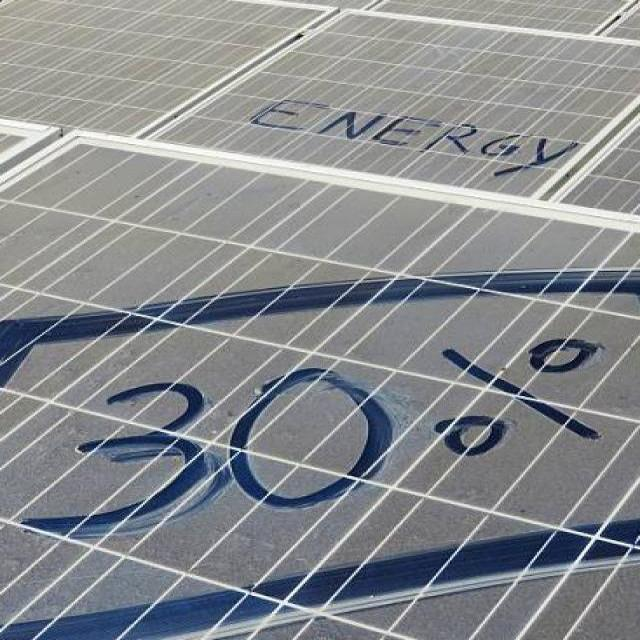faulty: (0, 144, 636, 636), (164, 15, 633, 192), (2, 8, 313, 123)
